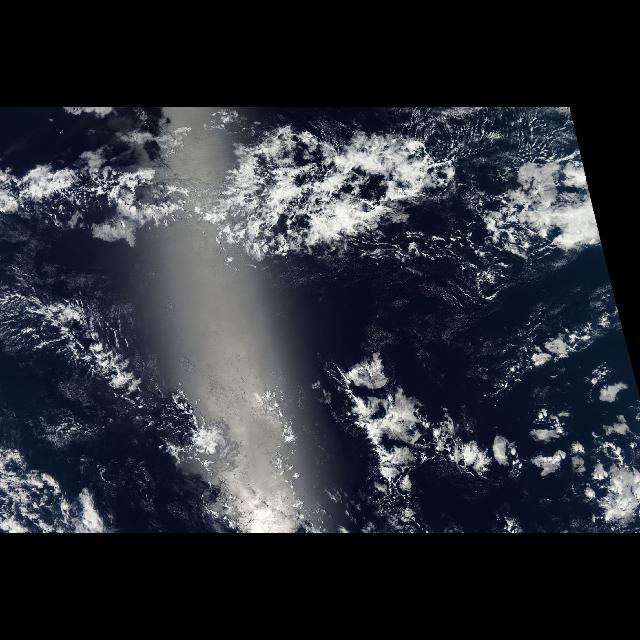Fish: (0, 118, 538, 524)
Sugar: (6, 284, 178, 432)
